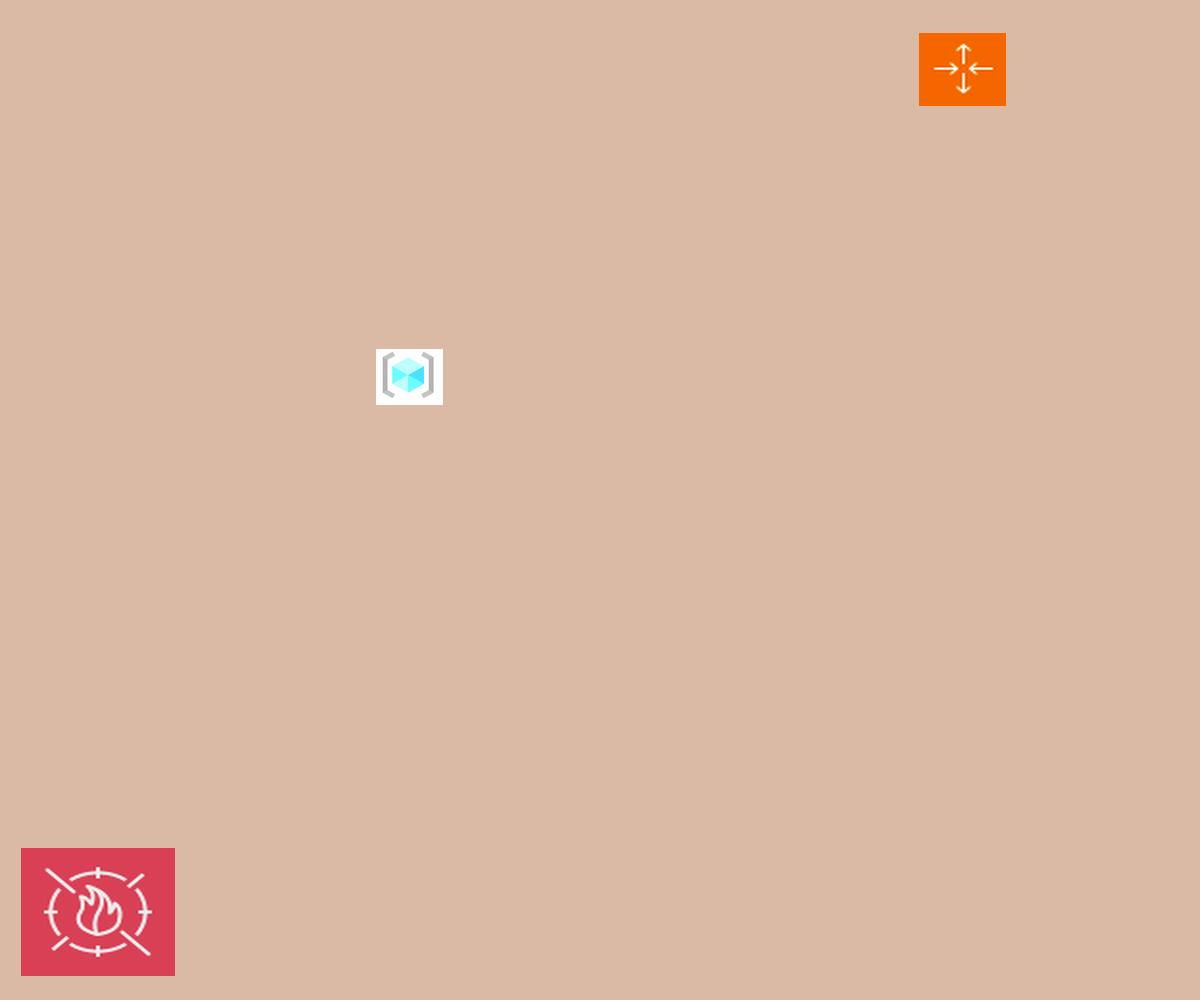AWS-Scaling-group: (919, 33, 1006, 106)
AWS-WAF: (21, 848, 175, 976)
Azure_resource_group: (376, 349, 443, 405)
